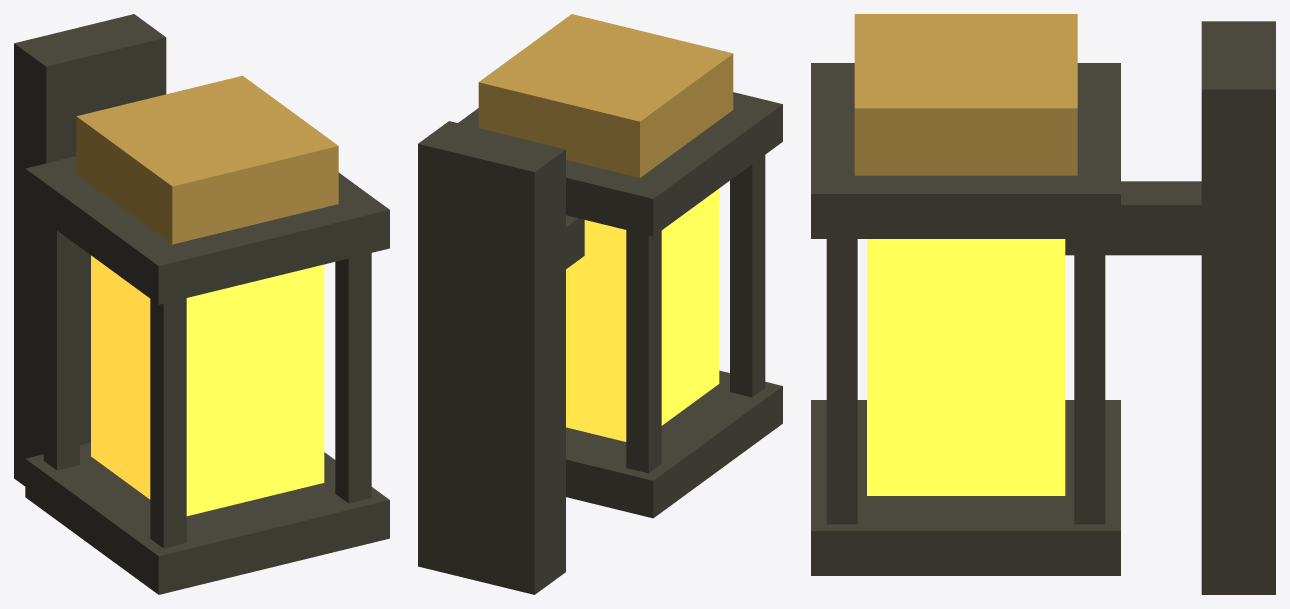
File: wall-lantern.glb
3 views of the same model, side by side, from view 1: azimuth 30°, elevation 25°; view 2: azimuth 150°, elevation 25°; view 3: azimuth 270°, elevation 25° (orthographic). The views are drawn at different scales.
Visible parts, largest first — view 1: Warm lantern glass, Lantern roof, Wall mount, Lantern cap, Lantern cap.001, Lantern frame, Lantern frame.002, Lantern frame.001; view 2: Wall mount, Lantern roof, Warm lantern glass, Lantern cap, Lantern cap.001, Lantern frame.001, Lantern frame, Wall bracket; view 3: Warm lantern glass, Wall mount, Lantern roof, Lantern cap.001, Lantern cap, Lantern frame.002, Lantern frame.003, Wall bracket.
Part boxes in pixels (x1=…): Warm lantern glass: x1=91, y1=255, x2=324, y2=516; Lantern roof: x1=76, y1=75, x2=338, y2=244; Wall mount: x1=14, y1=14, x2=166, y2=486; Lantern cap: x1=25, y1=442, x2=389, y2=594; Lantern cap.001: x1=25, y1=156, x2=389, y2=304; Lantern frame: x1=150, y1=298, x2=186, y2=548; Lantern frame.002: x1=335, y1=253, x2=371, y2=503; Lantern frame.001: x1=43, y1=221, x2=79, y2=470; Wall mount: x1=418, y1=121, x2=565, y2=594; Lantern roof: x1=478, y1=14, x2=733, y2=177; Warm lantern glass: x1=566, y1=188, x2=719, y2=441; Lantern cap: x1=566, y1=370, x2=782, y2=518; Lantern cap.001: x1=458, y1=92, x2=782, y2=236; Lantern frame.001: x1=626, y1=230, x2=661, y2=473; Lantern frame: x1=730, y1=155, x2=765, y2=397; Wall bracket: x1=566, y1=215, x2=584, y2=268; Warm lantern glass: x1=867, y1=239, x2=1065, y2=495; Wall mount: x1=1201, y1=21, x2=1275, y2=594; Lantern roof: x1=854, y1=14, x2=1077, y2=175; Lantern cap.001: x1=811, y1=63, x2=1120, y2=238; Lantern cap: x1=811, y1=400, x2=1120, y2=575; Lantern frame.002: x1=826, y1=239, x2=857, y2=524; Lantern frame.003: x1=1074, y1=239, x2=1105, y2=524; Wall bracket: x1=1065, y1=181, x2=1201, y2=255.
Bounding box in the file's own units: 0.25 × 0.45 × 0.375.
